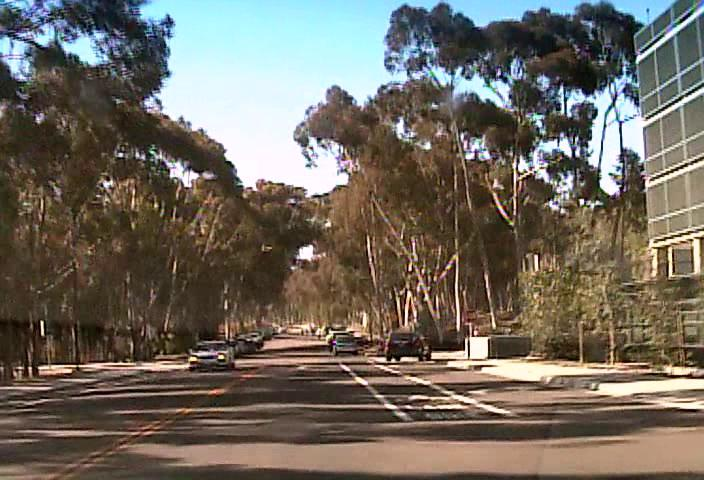stop: (461, 308, 477, 324)
